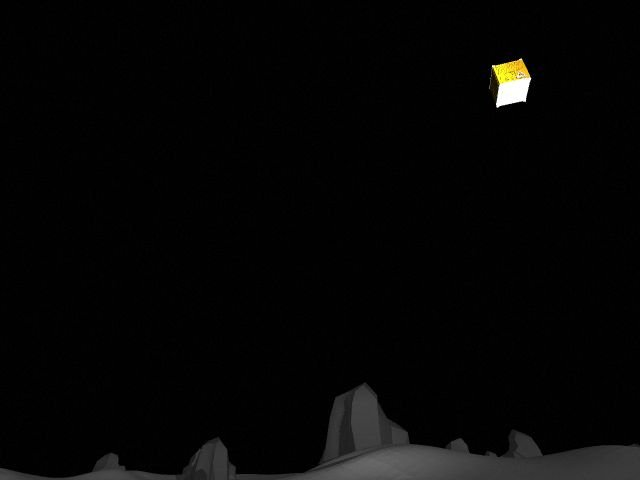cubesat: (484, 53, 535, 111)
